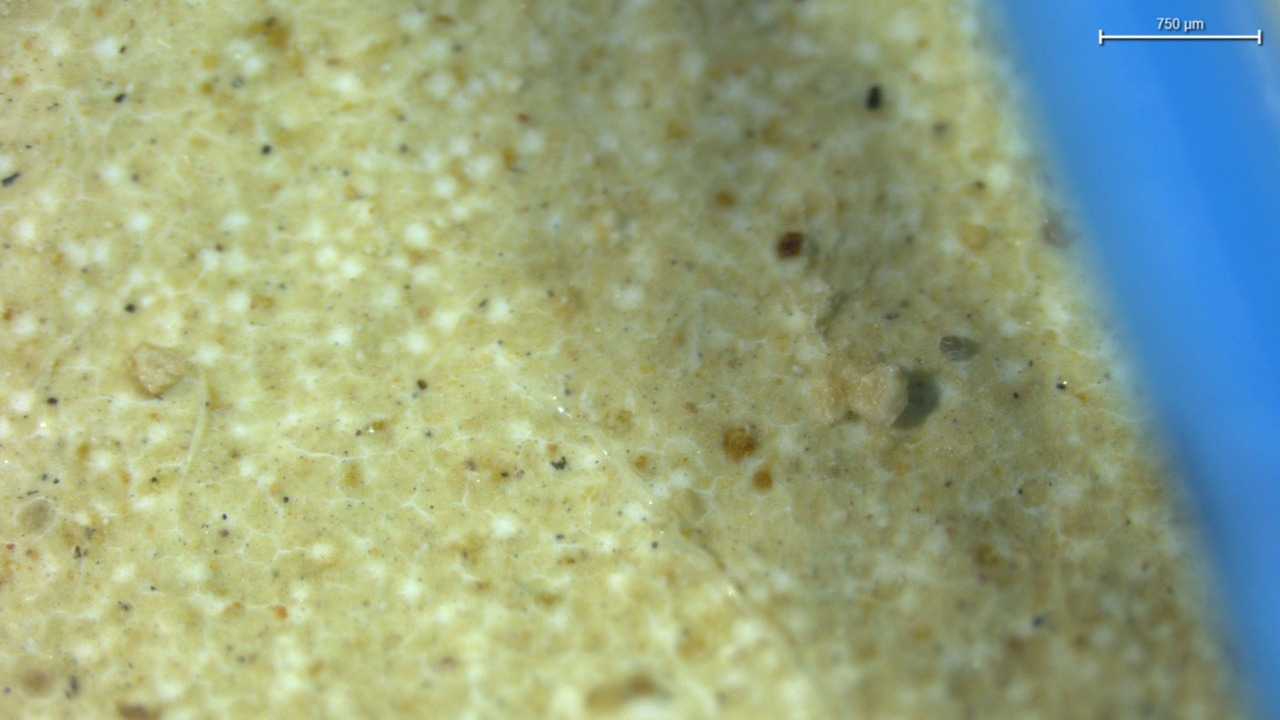microplastic_fragment: (836, 361, 909, 431), (133, 348, 186, 398)
